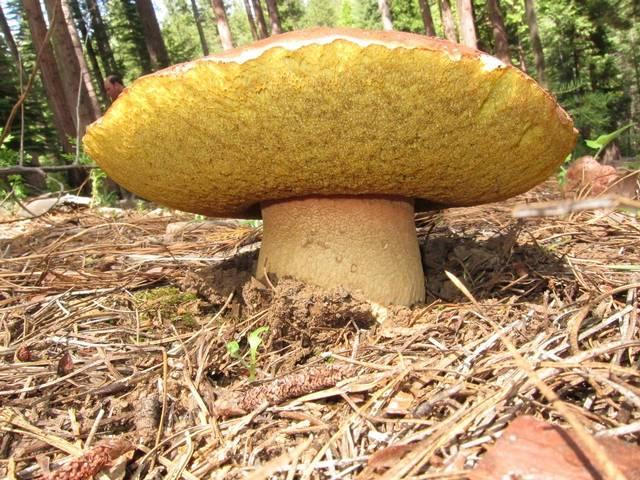edible_mushroom: (80, 25, 579, 308)
